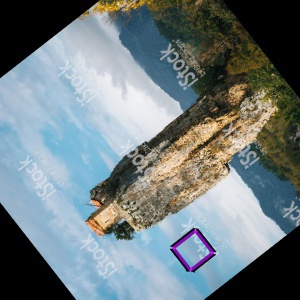square: (167, 226, 219, 276)
